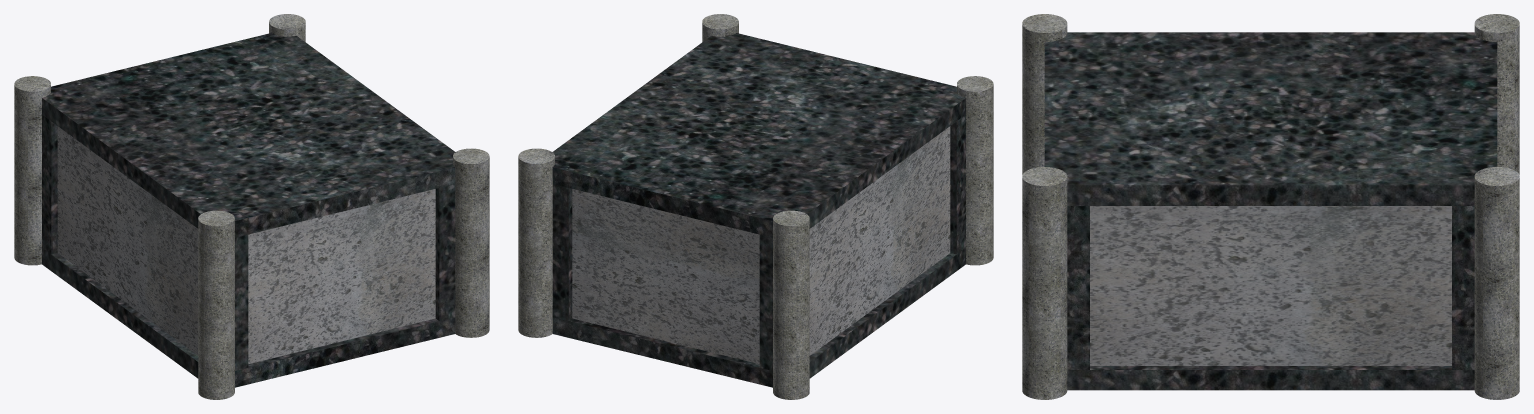
The model's file is Stone altar.fbx.
The picture shows the model from 3 angles, left to right: view 1: azimuth 30°, elevation 25°; view 2: azimuth 150°, elevation 25°; view 3: azimuth 270°, elevation 25°; orthographic projection. The views are drawn at different scales.
Parts seen in each view (by area): view 1: Tabletop, Face 4, Supports, Face 3, Table bottom, Corner 2, Corner 4, Corner 3; view 2: Tabletop, Face 2, Supports, Face 3, Table bottom, Corner 1, Corner 3, Corner 4; view 3: Tabletop, Face 1, Supports, Table bottom, Corner 2, Corner 1.
Boxes of the visible parts, x1,y1,x2,y2 form: Tabletop: [42, 33, 455, 237]; Face 4: [248, 189, 435, 363]; Supports: [14, 14, 489, 399]; Face 3: [57, 126, 198, 355]; Table bottom: [42, 248, 455, 387]; Corner 2: [435, 184, 455, 320]; Corner 4: [42, 115, 57, 254]; Corner 3: [235, 234, 248, 370]; Tabletop: [552, 33, 965, 237]; Face 2: [572, 189, 759, 363]; Supports: [518, 14, 993, 399]; Face 3: [809, 126, 950, 355]; Table bottom: [552, 248, 965, 387]; Corner 1: [552, 184, 572, 320]; Corner 3: [950, 115, 965, 254]; Corner 4: [759, 234, 772, 370]; Tabletop: [1044, 32, 1497, 205]; Face 1: [1090, 206, 1451, 365]; Supports: [1022, 14, 1519, 399]; Table bottom: [1067, 366, 1474, 390]; Corner 2: [1067, 206, 1089, 369]; Corner 1: [1452, 206, 1474, 369].
Bounding box in the file's own units: 450 × 261 × 550.
